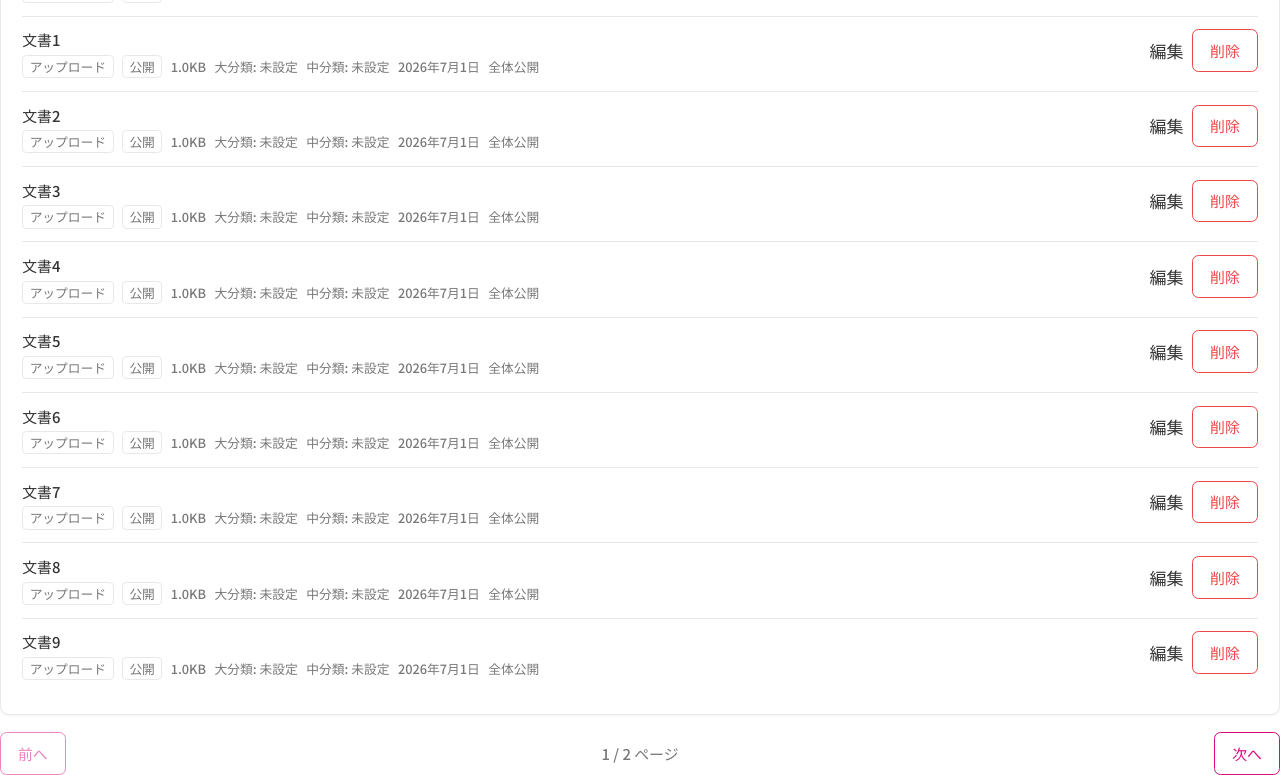
Scenario: DocumentManagementListClient › ページ切り替えで該当ページのみを表示し、アップロード日降順の入力順序を維持する
(page scrolled)
Expected: the text "文書11" is not shown
Expected: the text "1 / 2 ページ" is shown, [602,743,678,764]
Click the button "次へ" at (1247, 753), box [1214,732,1279,774]
(page scrolled)
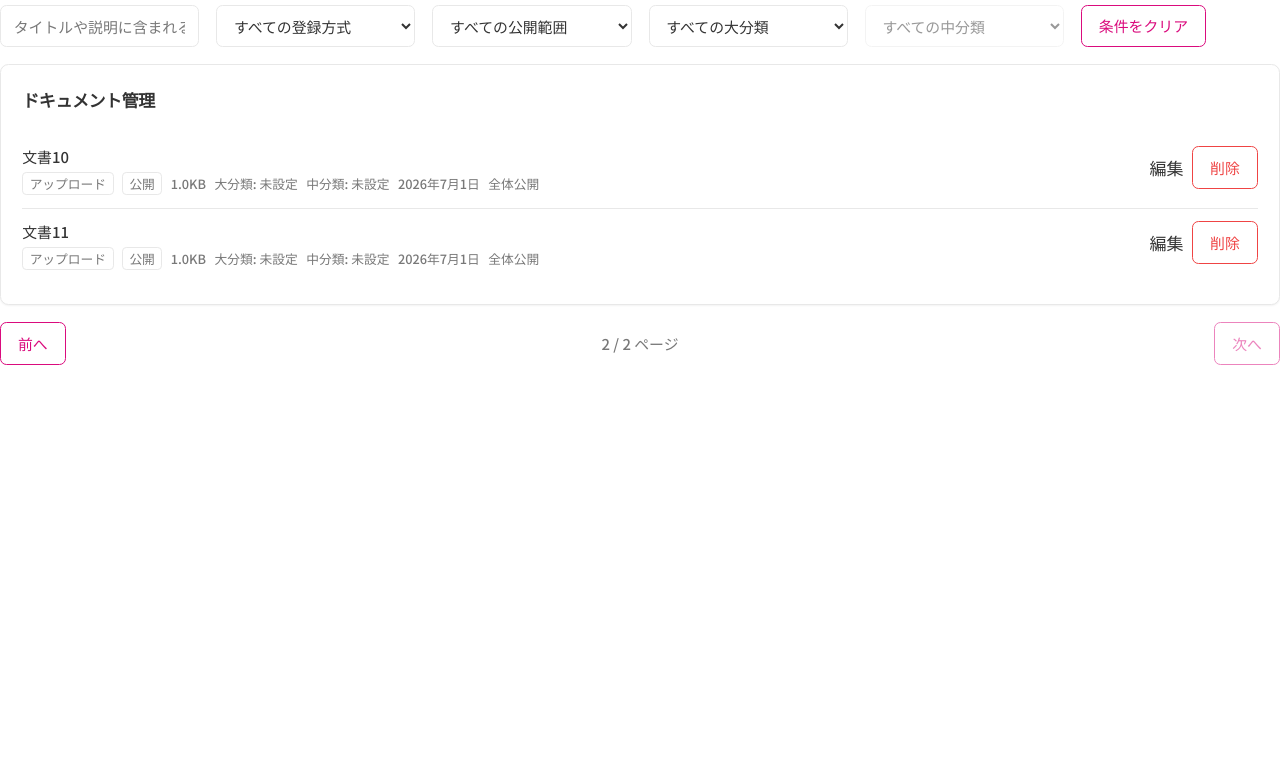
Now the text "文書11" is shown, box [22,221,69,242]
Now the text "2 / 2 ページ" is shown, box [602,333,678,354]
